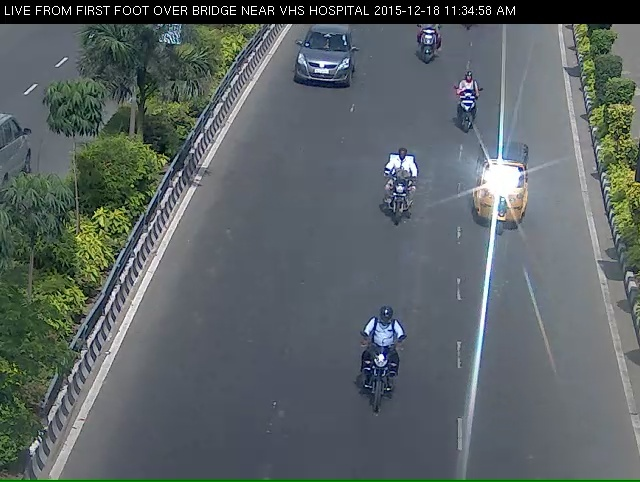Auto: (473, 154, 541, 272)
Car: (283, 35, 359, 112)
Person: (355, 335, 417, 443), (375, 170, 411, 259), (451, 83, 486, 143), (416, 25, 440, 77)
